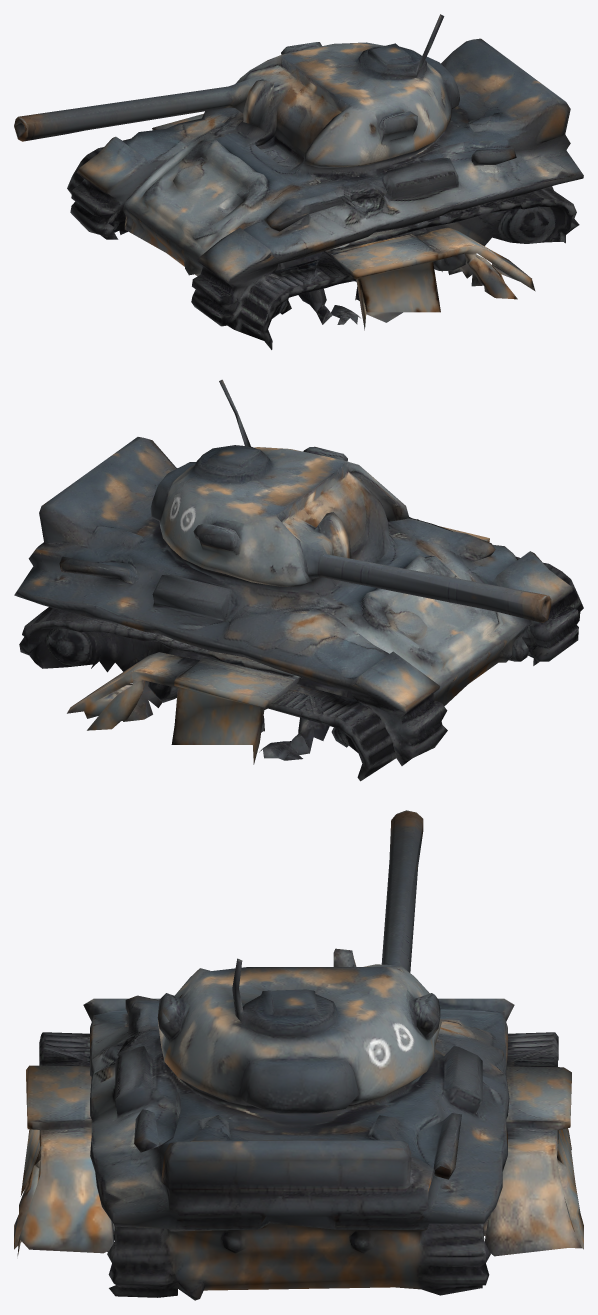
The model's file is vehicle-wreck.glb.
3 renders of one model, top to bottom at view 1: azimuth 30°, elevation 25°; view 2: azimuth 150°, elevation 25°; view 3: azimuth 270°, elevation 25°, orthographic. The views are drawn at different scales.
Size of the model in its own units: 1.66 by 0.7593 by 1.32.
Materials: 1 (1 with a texture image).
